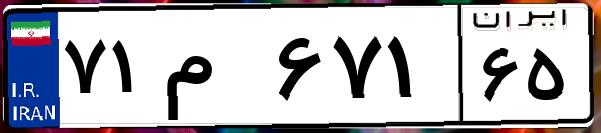1: (385, 28, 445, 110), (110, 28, 158, 98)
5: (525, 38, 570, 115)
6: (270, 28, 330, 110), (475, 38, 525, 113)
7: (330, 28, 385, 110), (57, 26, 110, 100)
م: (158, 20, 270, 120)
